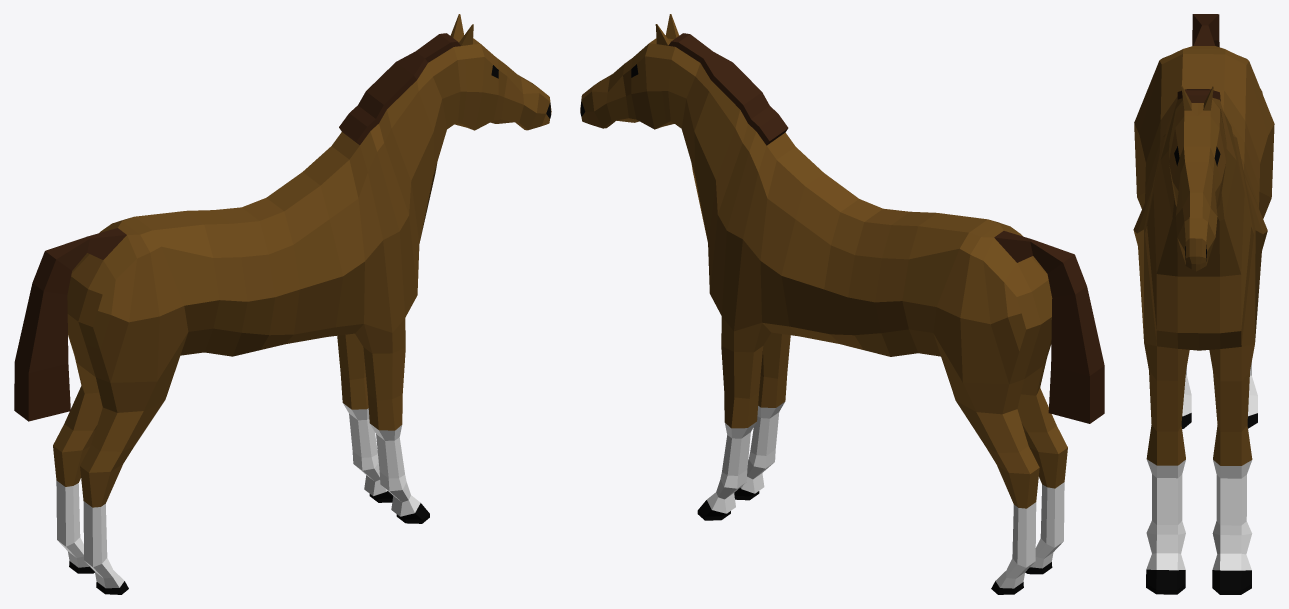
Rendered from horse.gltf.
3 renders of one model, left to right at view 1: azimuth 30°, elevation 25°; view 2: azimuth 150°, elevation 25°; view 3: azimuth 270°, elevation 25°, orthographic. The views are drawn at different scales.
Visible parts, largest first — view 1: Plane; view 2: Plane; view 3: Plane.
Boxes of the visible parts, box(x1,y1,x2,y2) form: Plane: box(14, 14, 551, 594); Plane: box(580, 14, 1104, 594); Plane: box(1133, 14, 1274, 594).
Bounding box in the file's own units: 3.26 × 2.81 × 0.6667.
